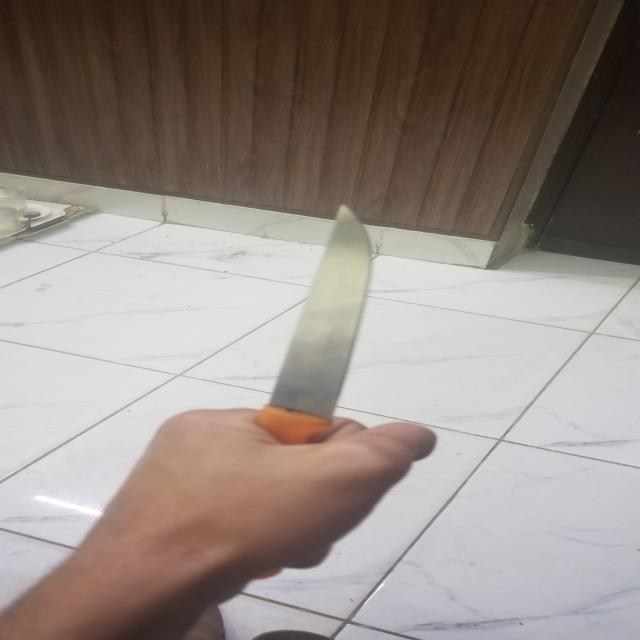Knife: (253, 195, 402, 484)
